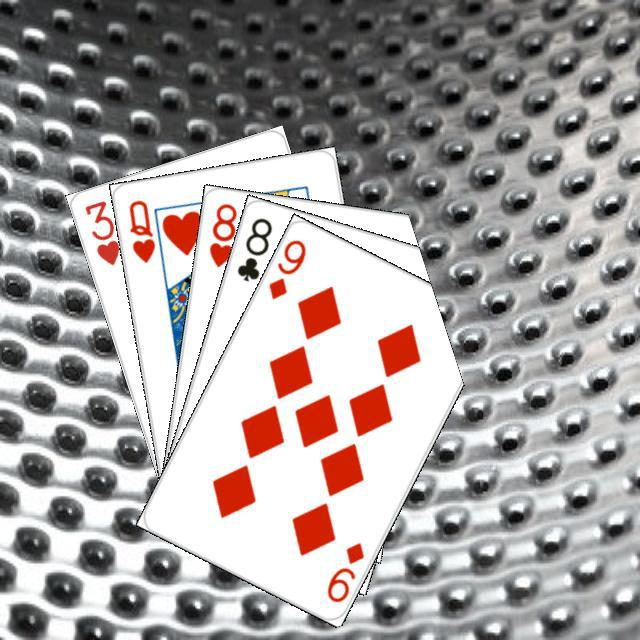3h: (80, 195, 122, 267)
8c: (232, 212, 274, 283)
8h: (204, 198, 239, 269)
9d: (263, 234, 308, 302), (321, 537, 366, 605)
Qh: (124, 195, 157, 265)
